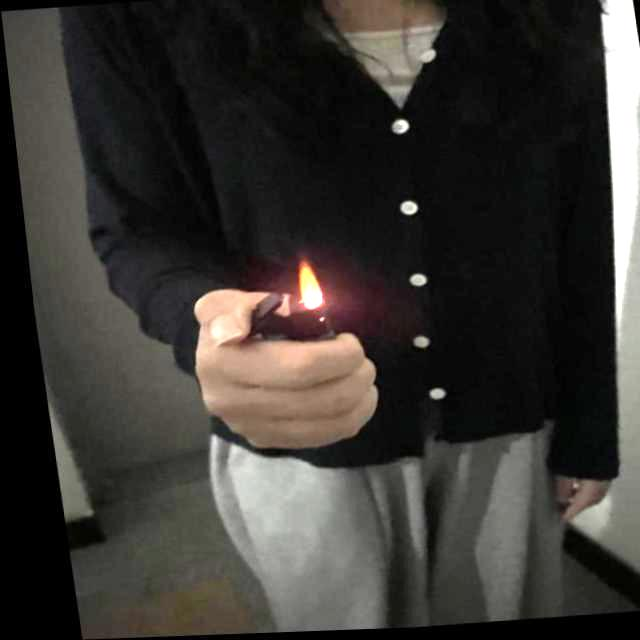fire: (286, 265, 318, 309)
